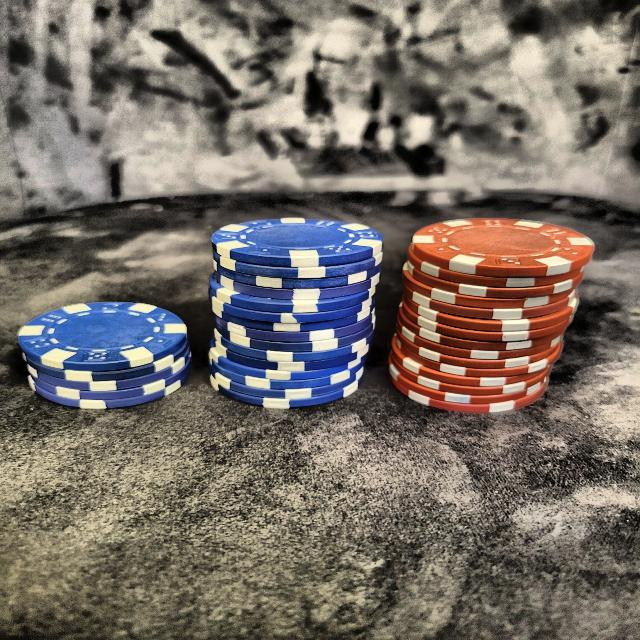Chip: (386, 193, 598, 423), (208, 196, 384, 428), (24, 283, 197, 427)
